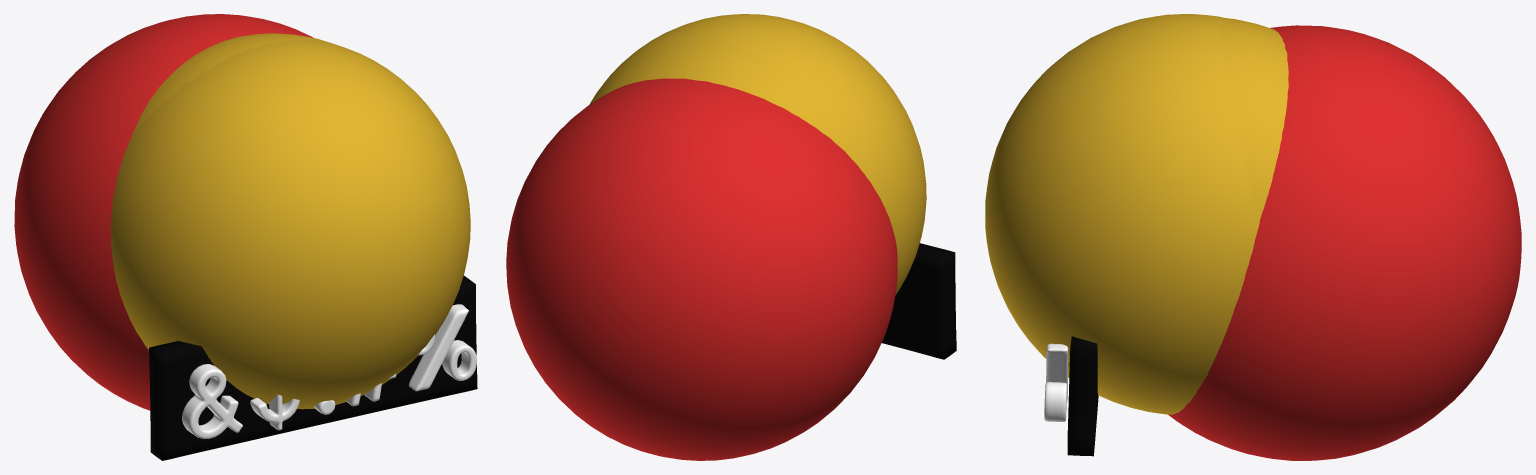
The model's file is serius FBX.glb.
3 views of the same model, side by side, from view 1: azimuth 30°, elevation 25°; view 2: azimuth 150°, elevation 25°; view 3: azimuth 270°, elevation 25° (orthographic). The views are drawn at different scales.
Visible parts, largest first — view 1: Group29019, Group30555, Group44109, Serius3, Group12533; view 2: Group30555, Group29019, Group12533, Group44109; view 3: Group30555, Group29019, Group12533, Group44109, Serius3.
Boxes of the visible parts, bbox=[...] form: Group29019: bbox=[110, 40, 470, 409]; Group30555: bbox=[14, 14, 313, 410]; Group44109: bbox=[149, 276, 477, 460]; Serius3: bbox=[182, 304, 476, 438]; Group12533: bbox=[132, 33, 338, 134]; Group30555: bbox=[506, 78, 897, 460]; Group29019: bbox=[589, 14, 926, 295]; Group12533: bbox=[591, 41, 838, 144]; Group44109: bbox=[882, 243, 956, 359]; Group30555: bbox=[1168, 25, 1521, 460]; Group29019: bbox=[985, 14, 1259, 414]; Group12533: bbox=[1218, 17, 1288, 218]; Group44109: bbox=[1067, 336, 1098, 456]; Serius3: bbox=[1044, 343, 1068, 421].
Size of the model in its own units: 0.6084 by 0.6368 by 0.7504.
